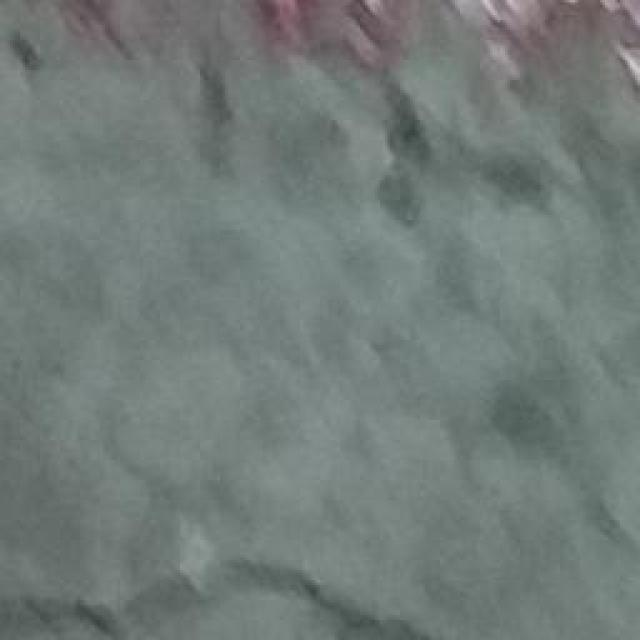Rippled: (0, 0, 636, 530)
Transverse: (6, 551, 439, 640)
